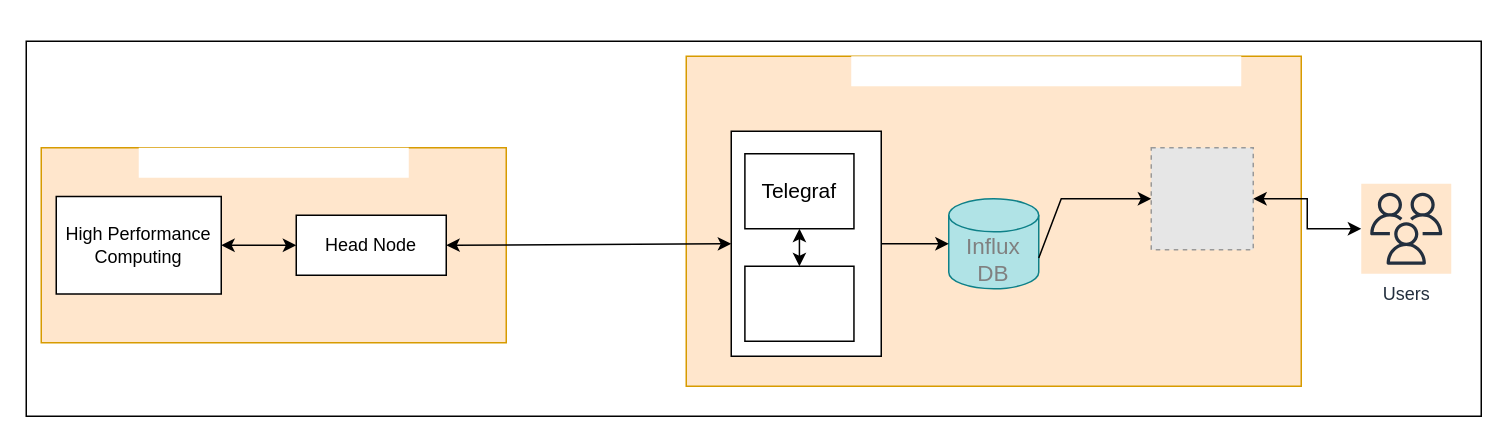
The diagram is 1508 pixels wide and 443 high, and some of its shapes have lost their labels. Grey dashed boxes stand in for pictures. The shapes that lost their labels are listed below. From the top down, each one's centre as x and y in pixels, then its label:
At pixel 1045 71: "VM with Connectivity to Head Node".
At pixel 273 162: "Slurm workload manager".
At pixel 798 303: "Parser Engine".
